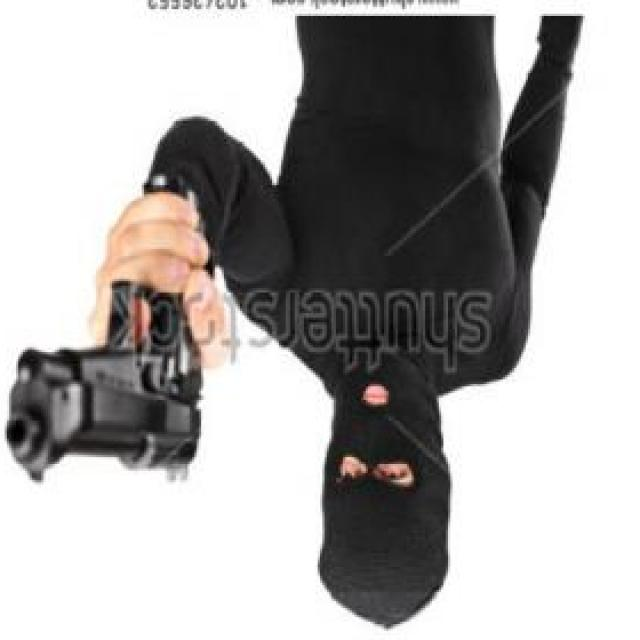pistol: (6, 178, 206, 492)
